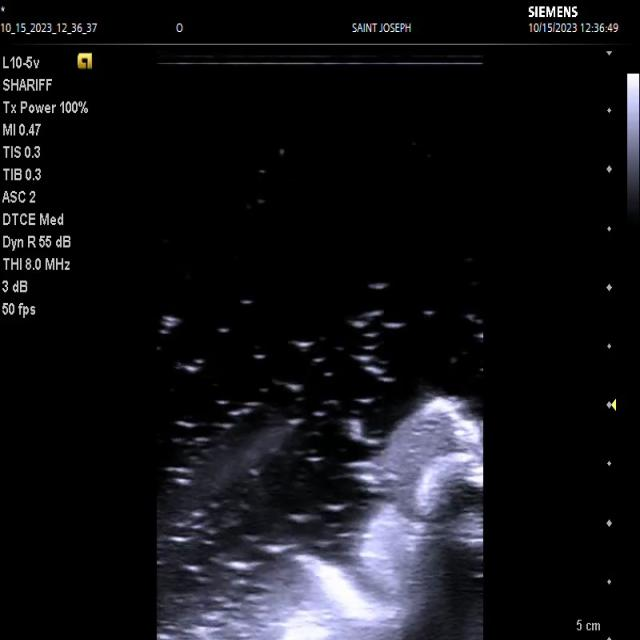tissue: (158, 395, 482, 640)
